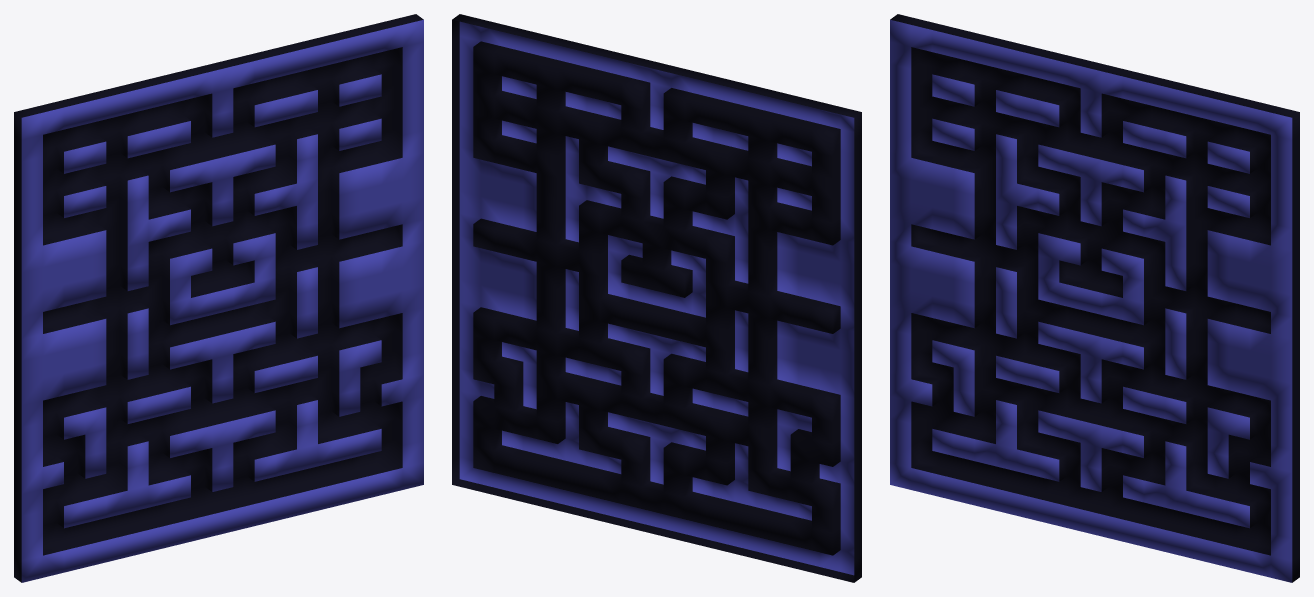
File: level.fbx
The picture shows the model from 3 angles, left to right: view 1: azimuth 30°, elevation 25°; view 2: azimuth 150°, elevation 25°; view 3: azimuth 330°, elevation 25°; orthographic projection.
Visible parts, largest first — view 1: Плоскость; view 2: Плоскость; view 3: Плоскость.
Boxes of the visible parts, x1,y1,x2,y2 form: Плоскость: (14, 14, 423, 582); Плоскость: (452, 14, 861, 582); Плоскость: (890, 14, 1299, 582).
Bounding box in the file's own units: 19 × 21 × 0.6357.
